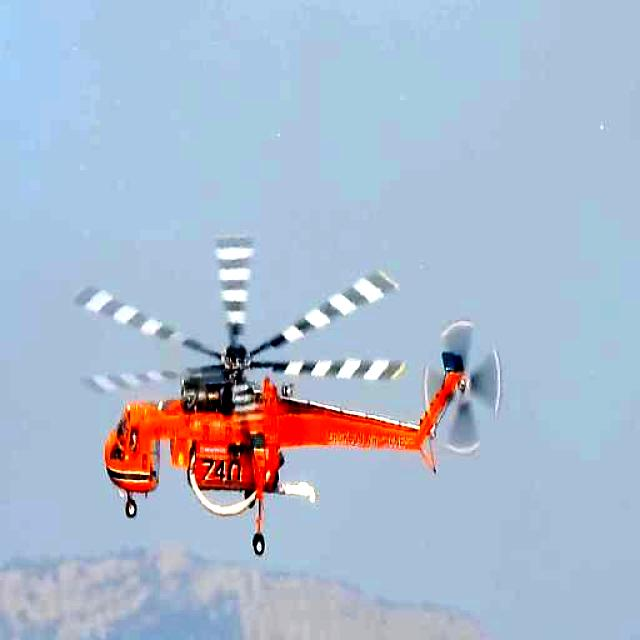drone: (70, 231, 508, 560)
